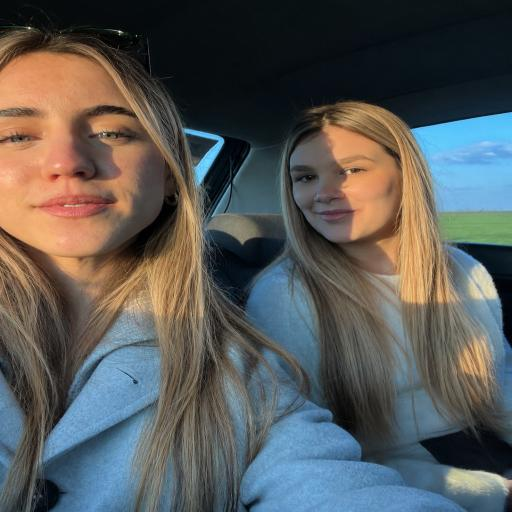masa: (2, 45, 174, 265)
